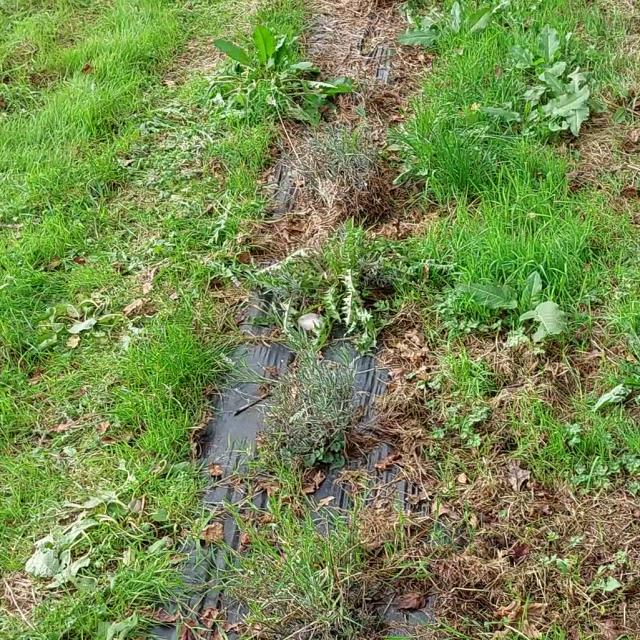organic waste: (199, 7, 359, 137), (458, 252, 578, 352), (387, 0, 513, 83), (26, 501, 122, 593), (28, 280, 132, 362), (511, 60, 601, 137), (489, 20, 585, 79)
